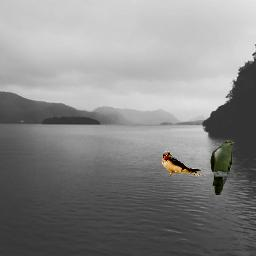Cuckoo: (210, 140, 234, 195)
Swallow: (161, 151, 206, 178)
